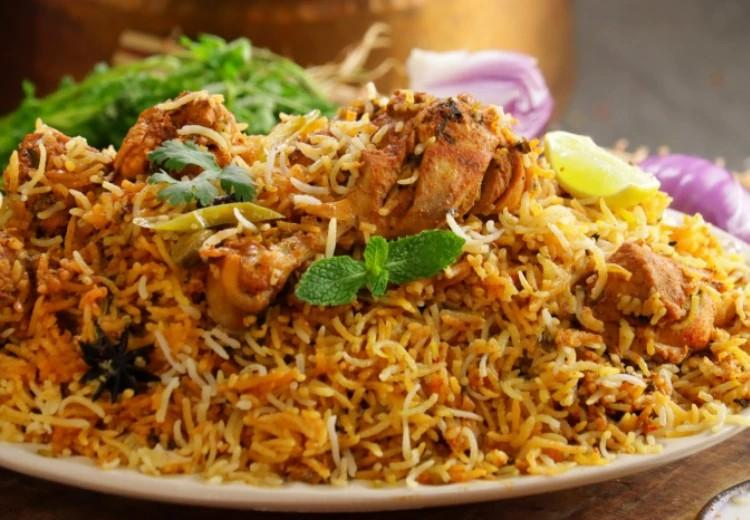Biryani: (0, 87, 750, 488)
